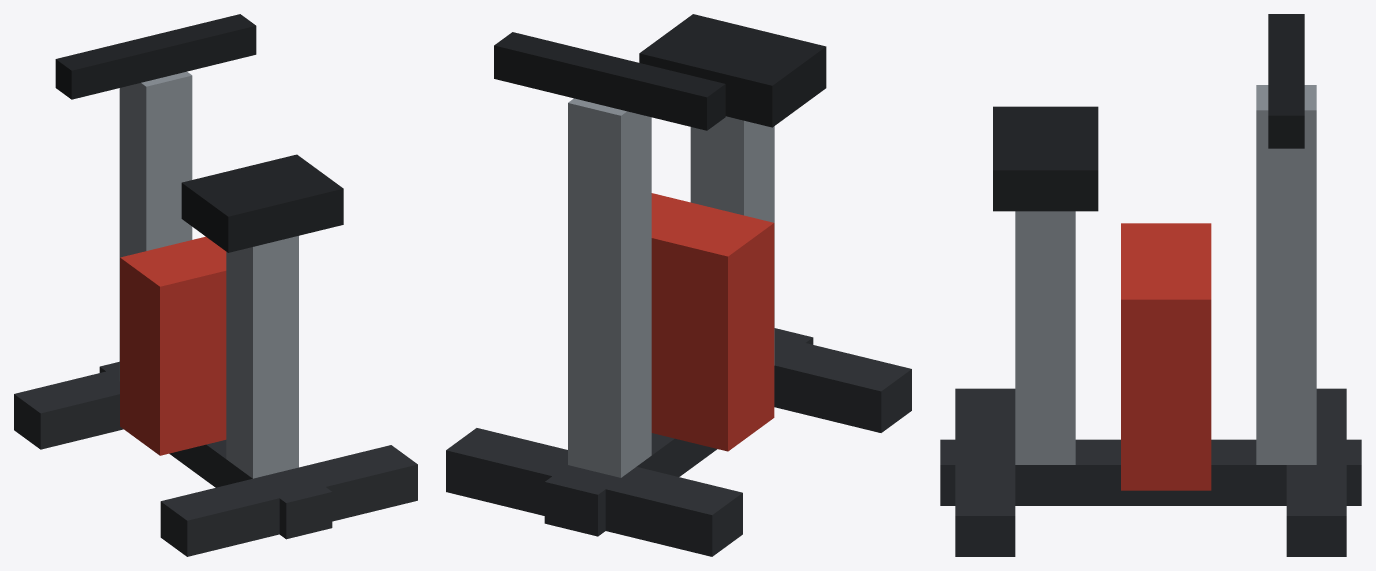
File: ExerciseBike.fbx
3 renders of one model, left to right at view 1: azimuth 30°, elevation 25°; view 2: azimuth 150°, elevation 25°; view 3: azimuth 270°, elevation 25°, orthographic. The views are drawn at different scales.
Parts seen in each view (by area): view 1: ExerciseBike_Mesh; view 2: ExerciseBike_Mesh; view 3: ExerciseBike_Mesh.
Boxes of the visible parts, bbox=[...] form: ExerciseBike_Mesh: bbox=[14, 14, 417, 556]; ExerciseBike_Mesh: bbox=[446, 14, 911, 556]; ExerciseBike_Mesh: bbox=[940, 14, 1361, 556].
Size of the model in its own units: 1 by 1.57 by 1.4.
1 material, 1 textured.
